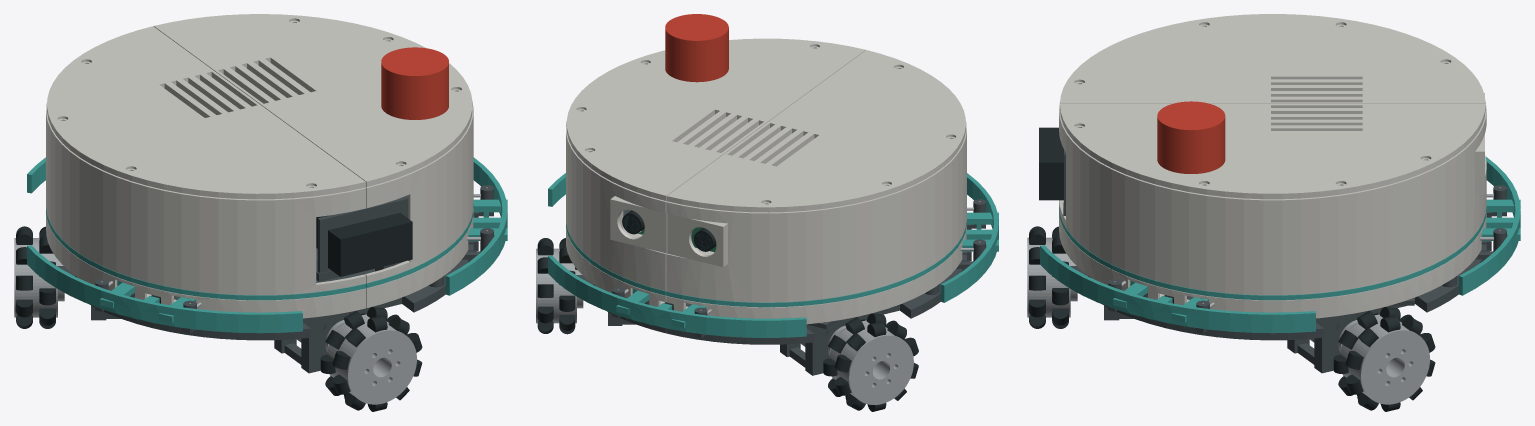
File: assembly.glb
3 renders of one model, left to right at view 1: azimuth 30°, elevation 25°; view 2: azimuth 150°, elevation 25°; view 3: azimuth 270°, elevation 25°, orthographic. The views are drawn at different scales.
Visible parts, largest first — view 1: shell-left, lid-left, lid-right, shell-right, bumper-210, wheel-core-270, stop-button, main-rocker-actuator, bumper-330, wheel-rollers-270, wheel-rollers-150, main-switch-panel (+9 smaller); view 2: shell-left, lid-left, lid-right, shell-right, bumper-90, wheel-core-150, stop-button, wheel-rollers-150, bumper-210, deck-left, wheel-rollers-30, trim-left (+5 smaller); view 3: shell-right, lid-left, lid-right, bumper-330, wheel-core-30, stop-button, bumper-90, wheel-rollers-30, deck-right, trim-right, wheel-rollers-270, main-rocker-actuator (+4 smaller).
Part boxes in pixels (box(x1,y1,x2,y2)): shell-left: box(46, 101, 366, 318); lid-left: box(47, 26, 365, 199); lid-right: box(153, 14, 472, 187); shell-right: box(365, 103, 473, 307); bumper-210: box(27, 245, 302, 333); wheel-core-270: box(326, 314, 416, 404); stop-button: box(381, 47, 448, 119); main-rocker-actuator: box(328, 213, 412, 276); bumper-330: box(445, 157, 507, 295); wheel-rollers-270: box(320, 307, 422, 411); wheel-rollers-150: box(16, 226, 55, 328); main-switch-panel: box(316, 197, 408, 281); shell-left: box(666, 120, 966, 324); lid-left: box(667, 50, 965, 212); lid-right: box(566, 38, 865, 200); shell-right: box(566, 122, 667, 306); bumper-90: box(548, 255, 806, 337); wheel-core-150: box(829, 320, 913, 404); stop-button: box(665, 14, 728, 82); wheel-rollers-150: box(823, 313, 918, 411); bumper-210: box(940, 173, 998, 302); deck-left: box(666, 269, 964, 344); wheel-rollers-30: box(537, 238, 575, 334); trim-left: box(666, 221, 966, 307); shell-right: box(1059, 110, 1486, 318); lid-left: box(1060, 14, 1485, 103); lid-right: box(1060, 104, 1485, 199); bumper-330: box(1040, 245, 1315, 333); wheel-core-30: box(1339, 314, 1429, 404); stop-button: box(1157, 101, 1225, 173); bumper-90: box(1458, 157, 1520, 295); wheel-rollers-30: box(1333, 307, 1435, 411); deck-right: box(1070, 259, 1484, 340); trim-right: box(1059, 207, 1486, 300); wheel-rollers-270: box(1029, 226, 1068, 328); main-rocker-actuator: box(1039, 127, 1063, 200).
Size of the model in its own units: 0.292 by 0.1716 by 0.2906.
